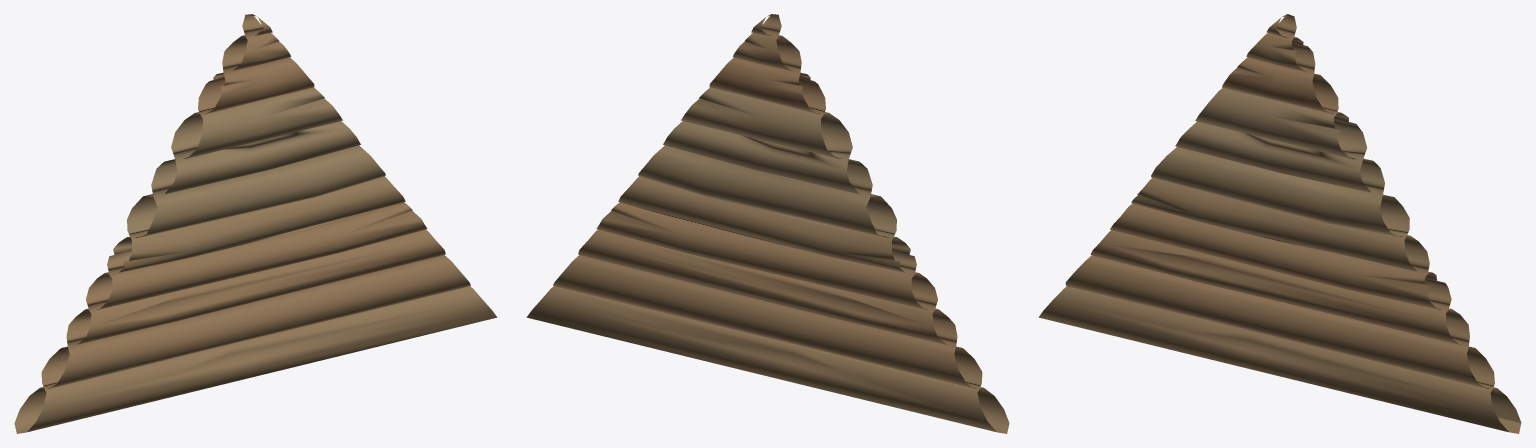
The model's file is rpgpp_ag_roof_end_01_6x5_wall_a.fbx.
3 renders of one model, left to right at view 1: azimuth 30°, elevation 25°; view 2: azimuth 150°, elevation 25°; view 3: azimuth 330°, elevation 25°, orthographic.
Parts seen in each view (by area): view 1: rpgpp_ag_roof_end_01_6x5_wall_a; view 2: rpgpp_ag_roof_end_01_6x5_wall_a; view 3: rpgpp_ag_roof_end_01_6x5_wall_a.
Boxes of the visible parts, left/top/right/bottom form: rpgpp_ag_roof_end_01_6x5_wall_a: left=14, top=14, right=497, bottom=433; rpgpp_ag_roof_end_01_6x5_wall_a: left=526, top=14, right=1009, bottom=433; rpgpp_ag_roof_end_01_6x5_wall_a: left=1038, top=14, right=1521, bottom=433.
Size of the model in its own units: 6.35 by 4.56 by 0.5143.
